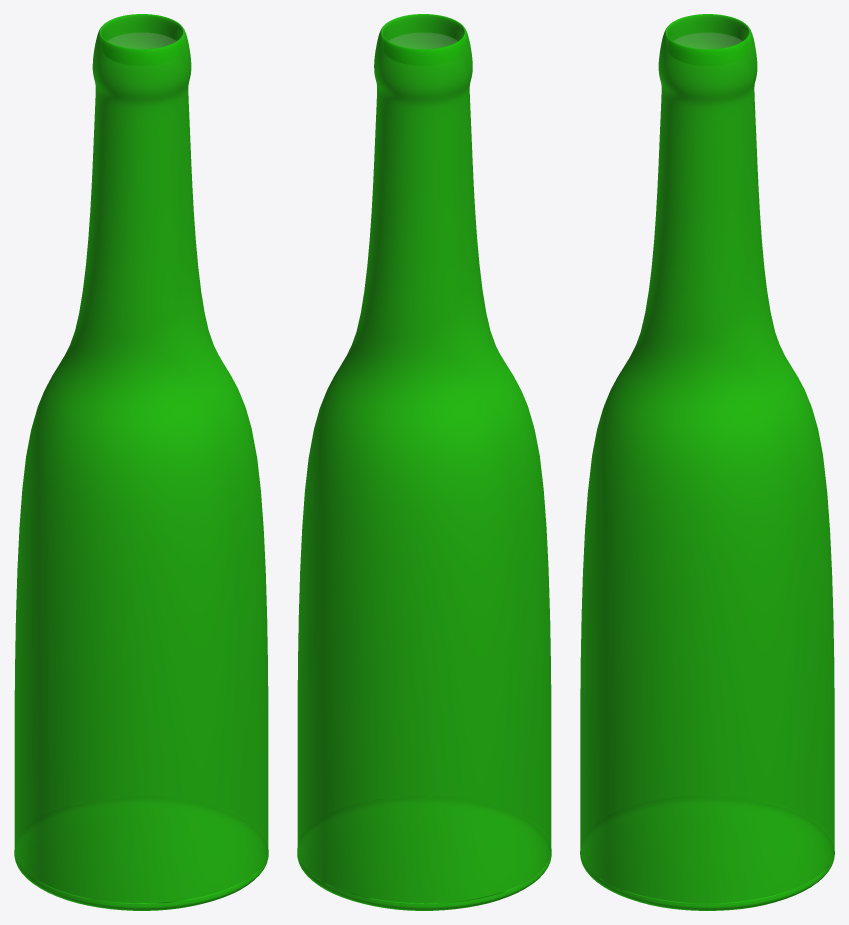
Rendered from Bottle (1).fbx.
3 views of the same model, side by side, from view 1: azimuth 30°, elevation 25°; view 2: azimuth 150°, elevation 25°; view 3: azimuth 270°, elevation 25° (orthographic).
Parts seen in each view (by area): view 1: Circle; view 2: Circle; view 3: Circle.
Part boxes in pixels (bbox=[...]): Circle: bbox=[14, 14, 268, 910]; Circle: bbox=[297, 14, 551, 910]; Circle: bbox=[580, 14, 834, 910].
Size of the model in its own units: 156 by 569 by 156.
